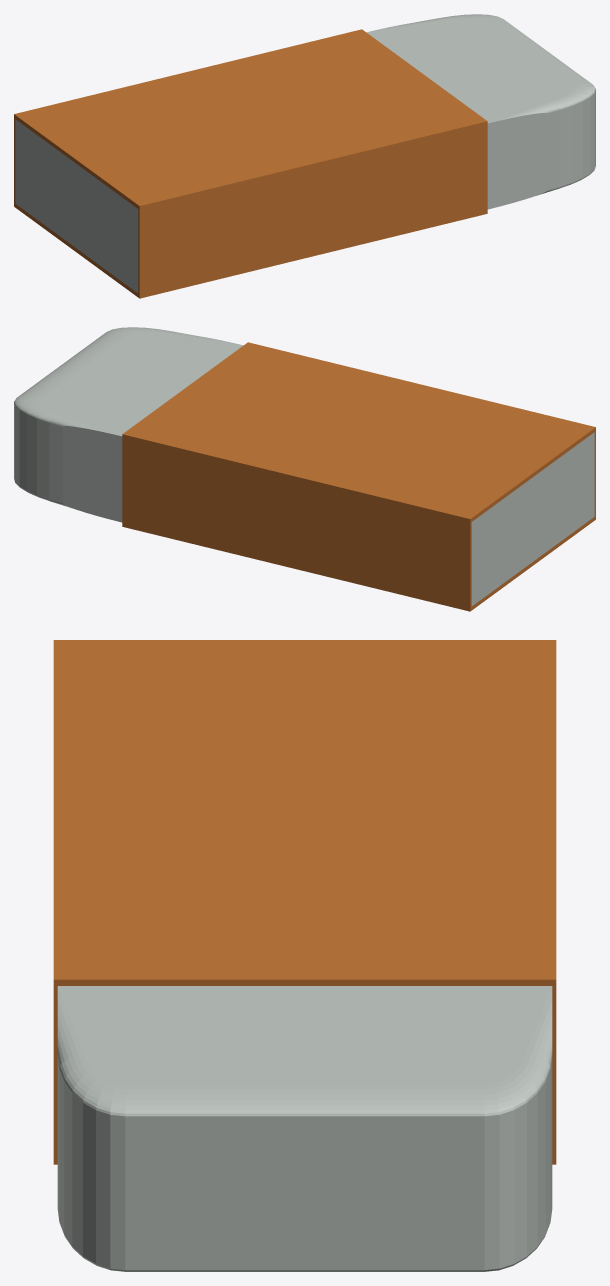
File: eraser.fbx
3 views of the same model, one above another, from view 1: azimuth 30°, elevation 25°; view 2: azimuth 150°, elevation 25°; view 3: azimuth 270°, elevation 25° (orthographic). The views are drawn at different scales.
Parts seen in each view (by area): view 1: Cube; view 2: Cube; view 3: Cube.
Boxes of the visible parts, left/top/right/bottom form: Cube: left=14, top=14, right=595, bottom=298; Cube: left=14, top=327, right=595, bottom=611; Cube: left=53, top=640, right=556, bottom=1271.
Size of the model in its own units: 433 by 81.14 by 200.
